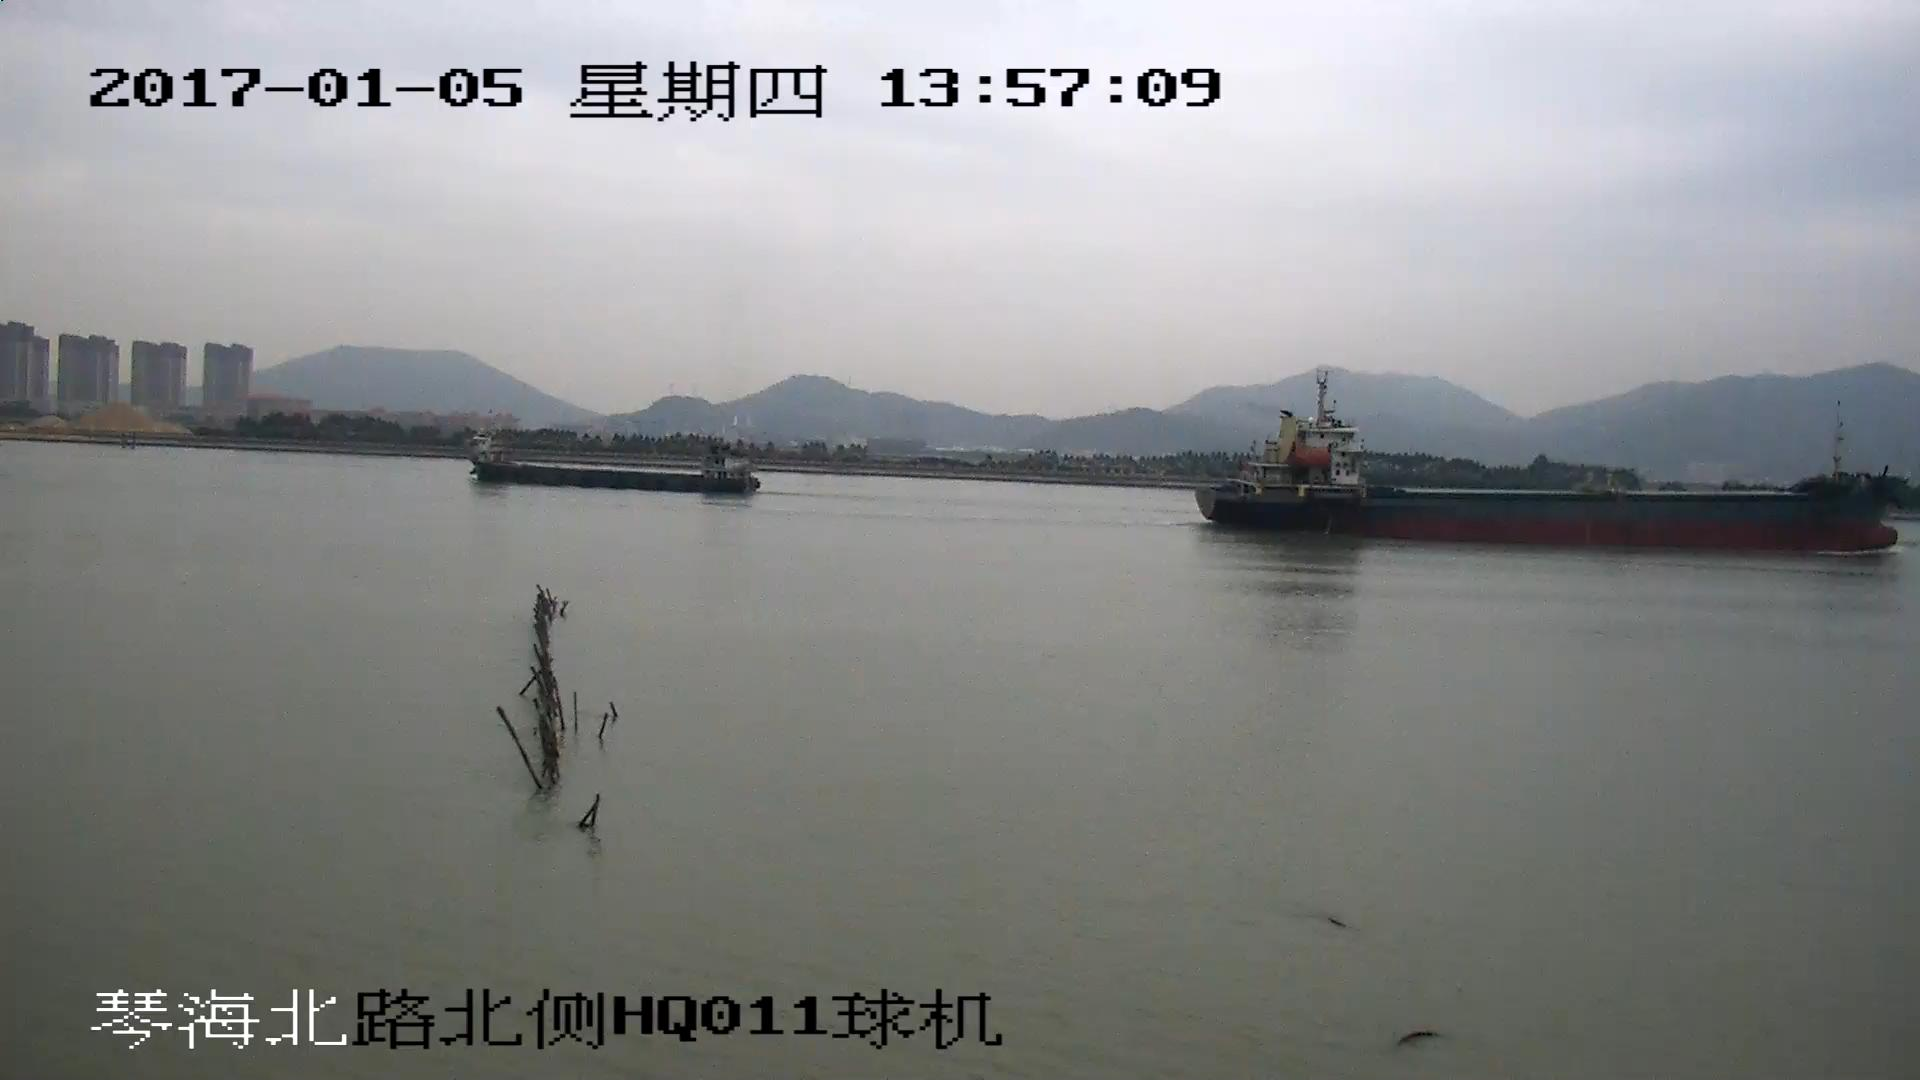general cargo ship: (1192, 375, 1898, 555), (468, 416, 755, 496)
